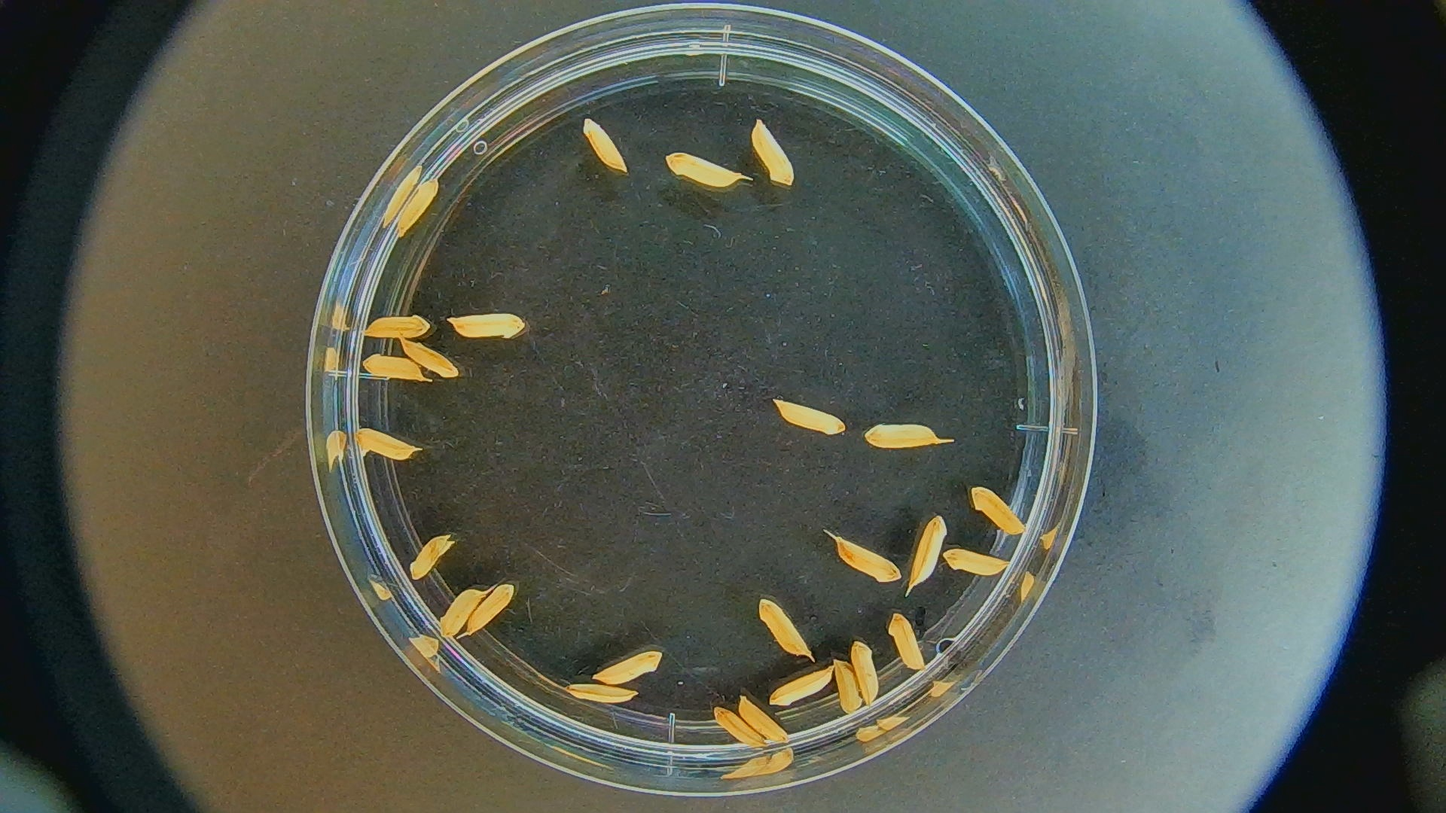no: (664, 146, 746, 188), (758, 594, 813, 656), (835, 534, 900, 583), (968, 486, 1029, 536), (751, 119, 797, 185), (405, 528, 459, 583), (346, 426, 423, 464), (772, 399, 847, 437), (736, 695, 795, 743), (884, 609, 926, 674), (442, 310, 530, 340), (401, 338, 463, 379), (862, 419, 939, 452), (394, 180, 437, 238), (725, 744, 792, 781), (581, 117, 628, 169), (467, 583, 514, 635), (770, 666, 832, 705), (593, 651, 664, 683), (714, 705, 770, 744), (362, 351, 428, 384), (849, 639, 881, 704), (941, 547, 1009, 577), (440, 589, 486, 633), (832, 659, 862, 714), (566, 683, 636, 706), (364, 315, 429, 339)
